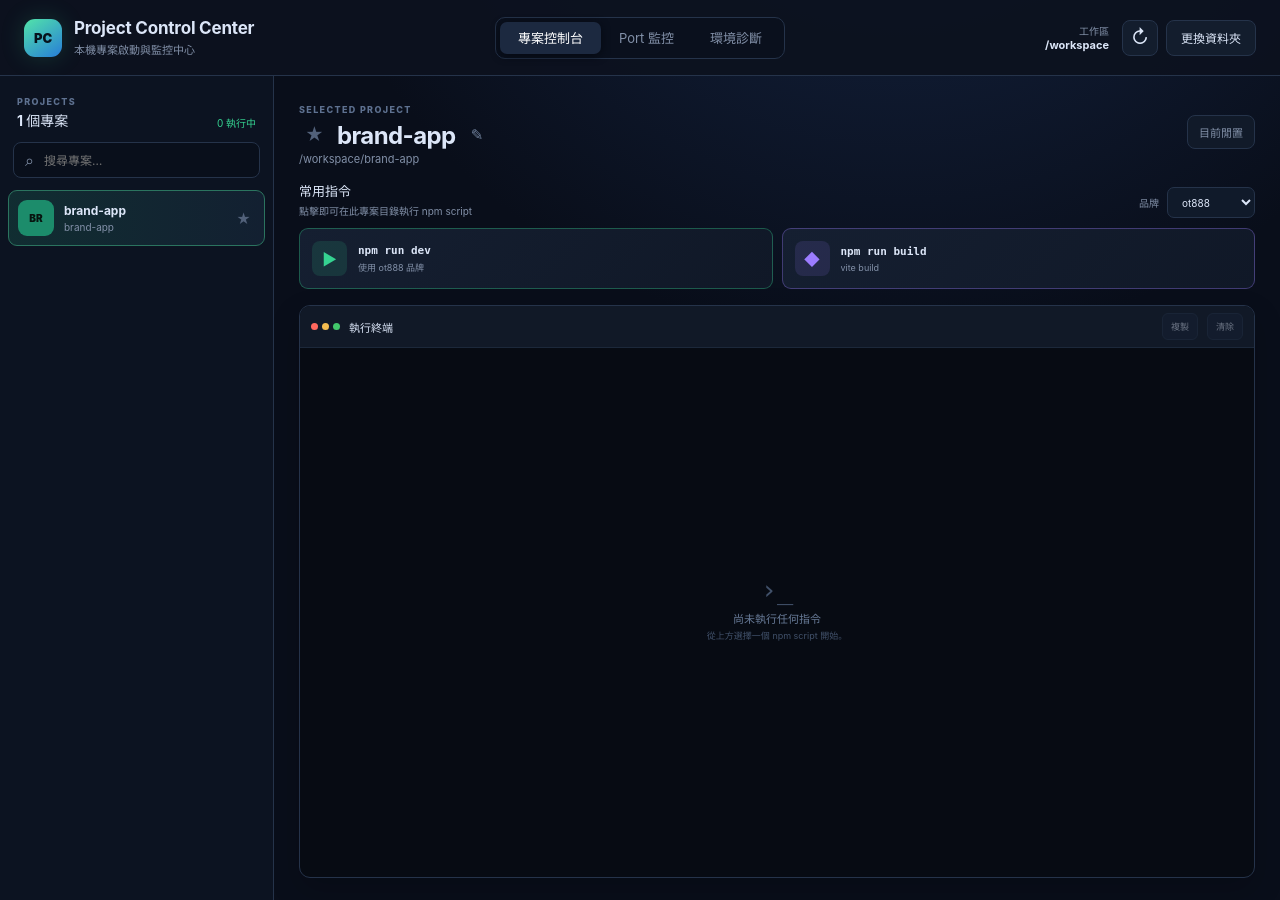
Test case: Project Control Center UI › cancels inline name editing with Escape
The image size is (1280, 900).
Click the button with class "editProjectNameButton". click: (477, 134)
box: top-left (464, 121), bottom-right (491, 148)
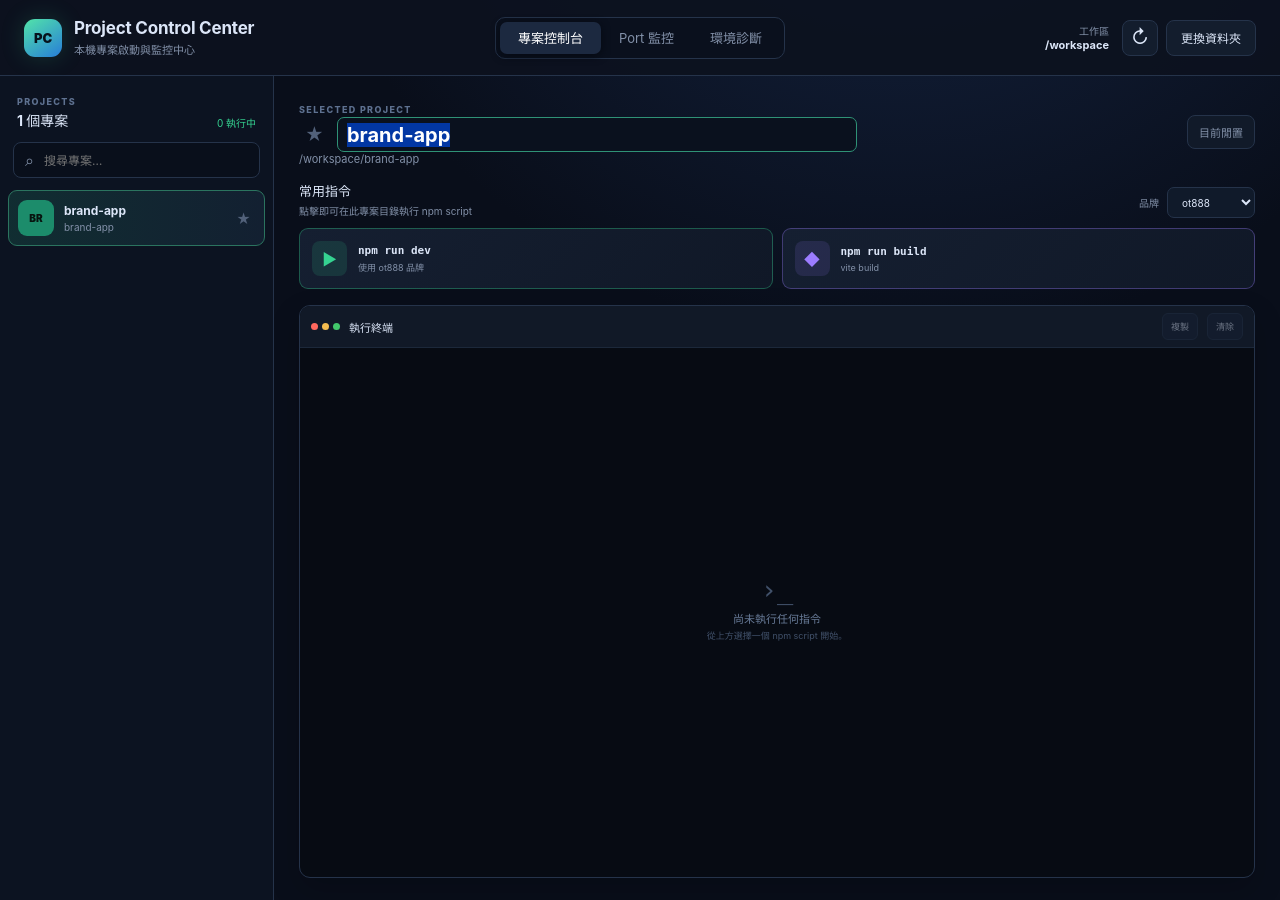
Replace the text in the field named "自訂專案名稱" with "不要保存". click: (597, 134)
box: top-left (337, 117), bottom-right (857, 152)
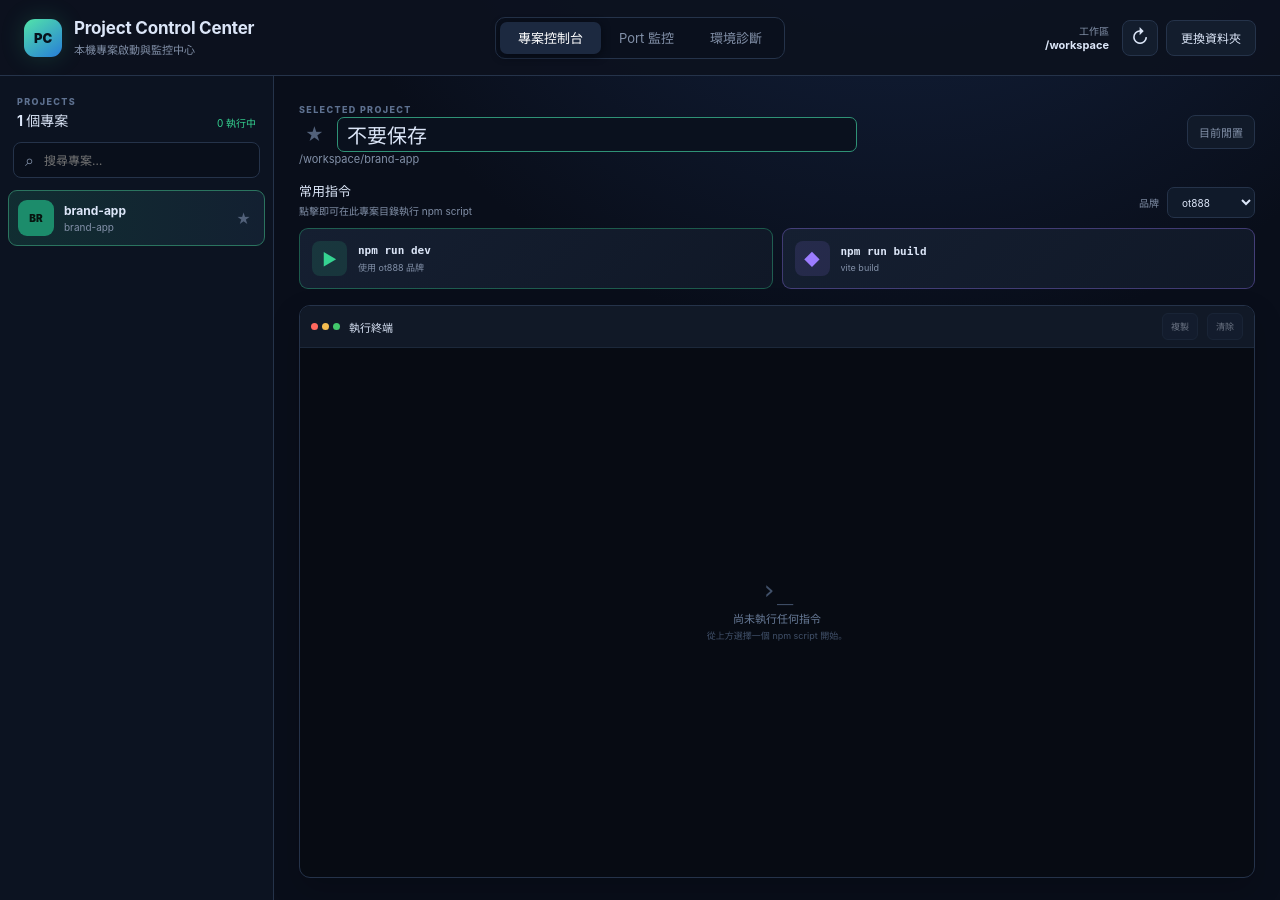
Press Escape in the field named "自訂專案名稱", box top-left (337, 117), bottom-right (857, 152)
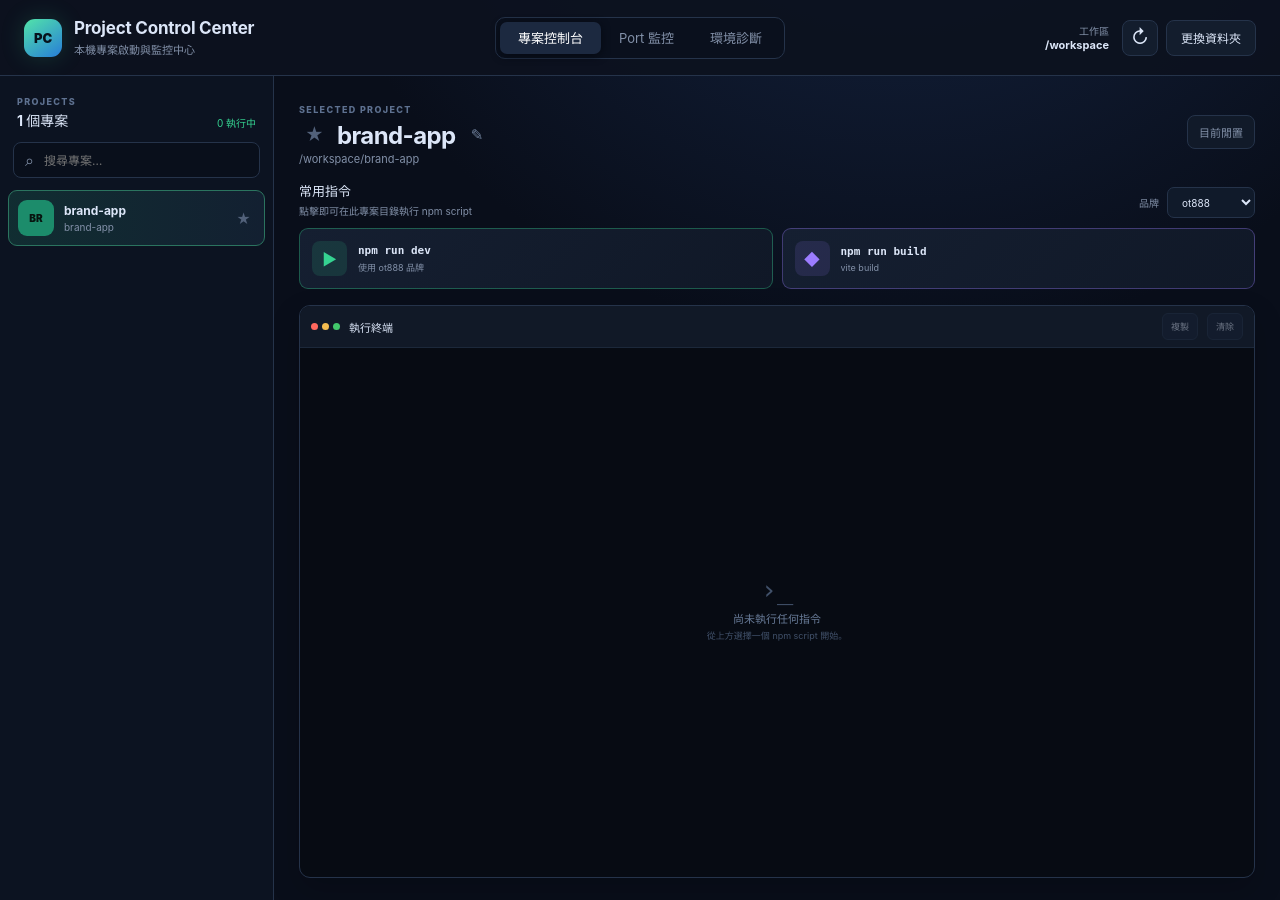
expect the heading "brand-app" is shown: met, box top-left (337, 121), bottom-right (456, 150)
